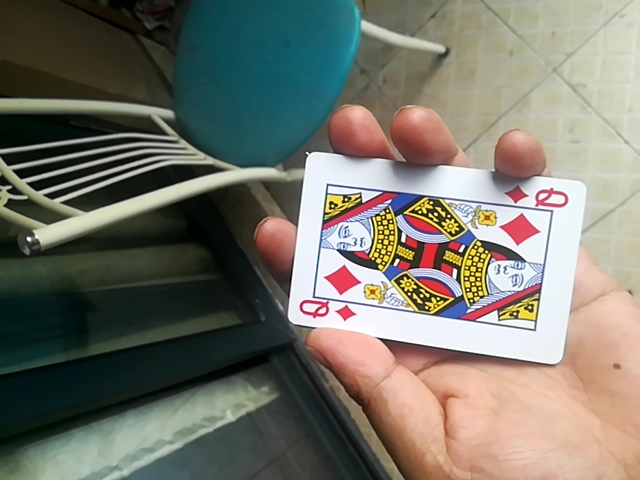fk q: (280, 156, 594, 357)
